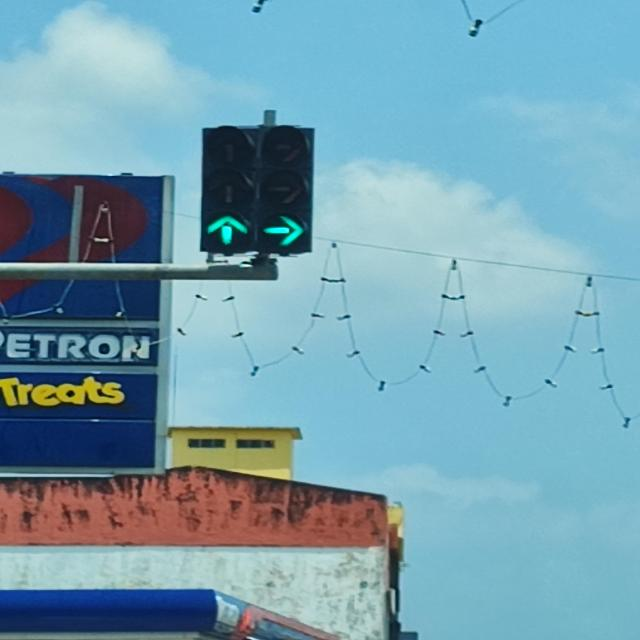traffic light: (200, 125, 316, 257), (200, 126, 258, 256), (258, 125, 315, 256)
